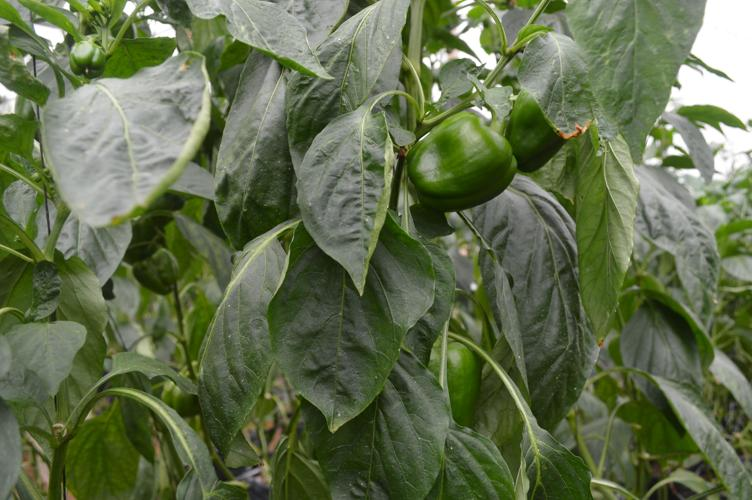BellPepper: (405, 108, 525, 229), (423, 333, 485, 433), (505, 86, 568, 180)
